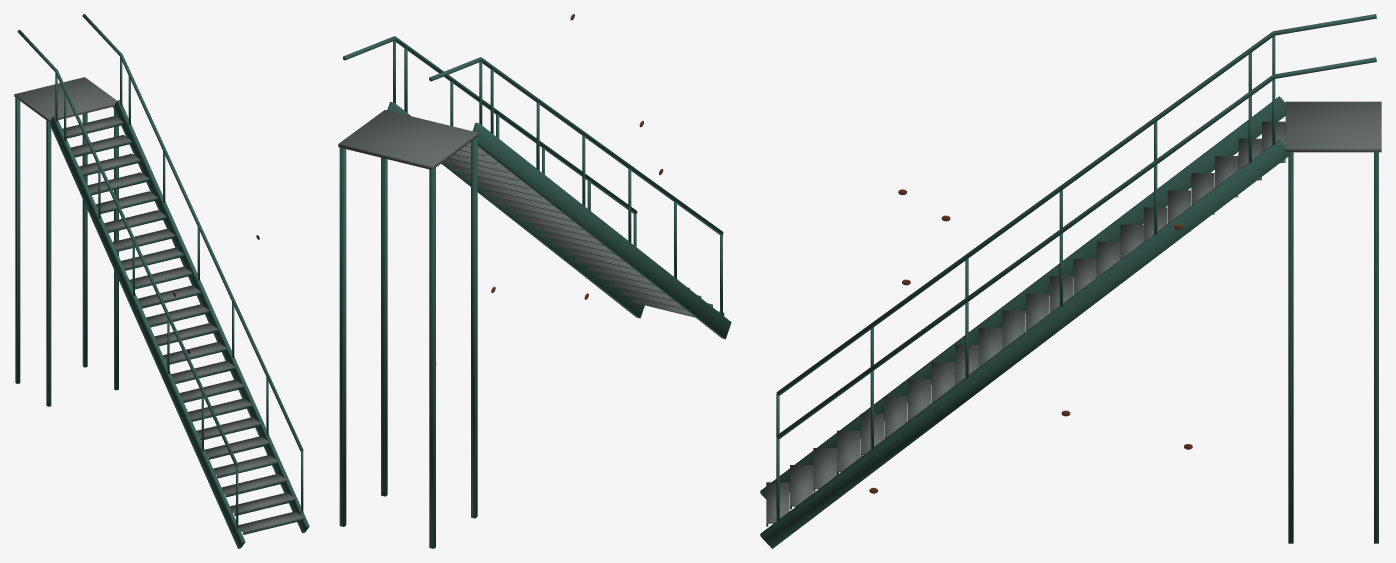
Rendered from cau_thang_408_486_90.glb.
3 renders of one model, left to right at view 1: azimuth 30°, elevation 25°; view 2: azimuth 150°, elevation 25°; view 3: azimuth 270°, elevation 25°, orthographic. The views are drawn at different scales.
Parts seen in each view (by area): view 1: cau_thang_408_486_90; view 2: cau_thang_408_486_90; view 3: cau_thang_408_486_90.
Part boxes in pixels (left/top/right/bottom): cau_thang_408_486_90: left=14, top=14, right=309, bottom=548; cau_thang_408_486_90: left=338, top=14, right=731, bottom=548; cau_thang_408_486_90: left=760, top=14, right=1381, bottom=548.
Bounding box in the file's own units: 1.05 × 5.07 × 5.82.
